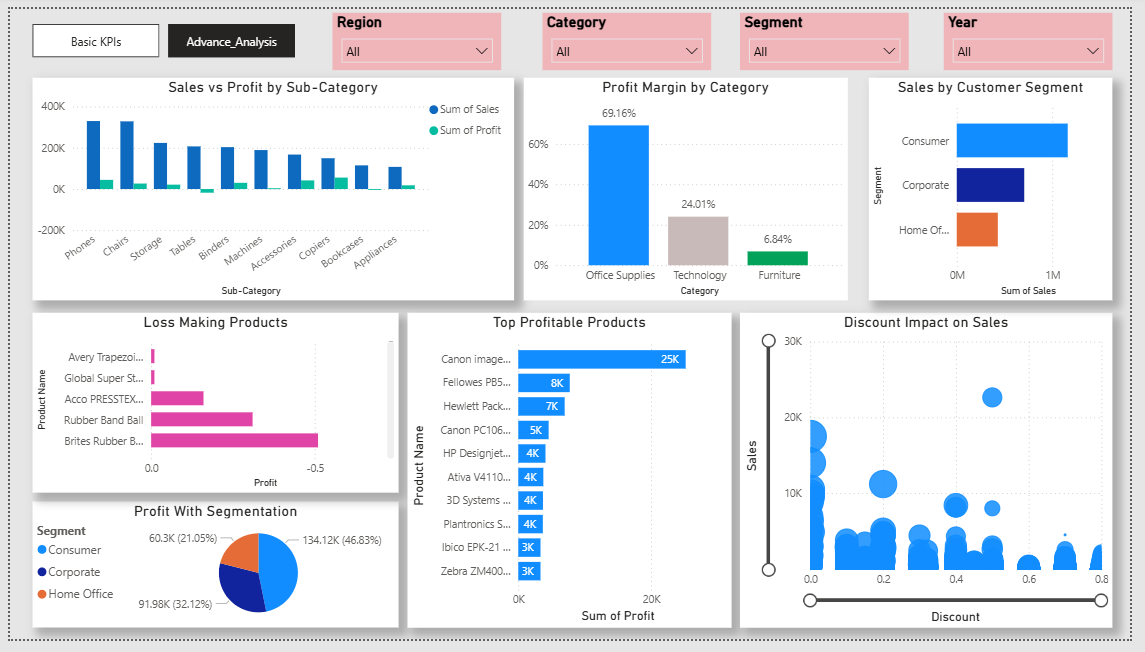

The dashboard page shown, as its layout file describes it:
{"tool":"powerbi","page":{"name":"Advance_Analysis","canvas":[1280,720],"ordinal":1},"visuals":[{"type":"clusteredColumnChart","title":"Sales vs Profit by Sub-Category","fields":{"Category":["clean_superstore_data.Sub-Category"],"Y":["Sum(clean_superstore_data.Sales)","Sum(clean_superstore_data.Profit)"]},"box":[25.7,78.6,550,254.3],"z":0},{"type":"columnChart","title":"Profit Margin  by Category","fields":{"Y":["Sum(clean_superstore_data.Profit Margin)"],"Category":["clean_superstore_data.Category"]},"box":[587.1,78.6,370,254.3],"z":1000},{"type":"pieChart","title":"Profit  With Segmentation","fields":{"Category":["clean_superstore_data.Segment"],"Y":["Sum(clean_superstore_data.Profit)"]},"box":[25.7,562.9,418.6,144.3],"z":2000},{"type":"clusteredBarChart","title":"Loss Making Products","fields":{"Category":["clean_superstore_data.Product Name"],"Y":["Sum(clean_superstore_data.Profit)"]},"box":[25.7,347.1,418.6,205.7],"z":3000},{"type":"clusteredBarChart","title":"Top Profitable Products","fields":{"Category":["clean_superstore_data.Product Name"],"Y":["Sum(clean_superstore_data.Profit)"]},"box":[454.3,347.1,370,360],"z":4000},{"type":"scatterChart","title":"Discount Impact on Sales","fields":{"X":["clean_superstore_data.Discount"],"Y":["clean_superstore_data.Sales"],"Size":["select","Sum(clean_superstore_data.Profit)"]},"box":[834.3,347.1,425.7,360],"z":5000},{"type":"barChart","title":"Sales by Customer Segment","fields":{"Category":["clean_superstore_data.Segment"],"Y":["Sum(clean_superstore_data.Sales)"],"Series":["clean_superstore_data.Segment"]},"box":[981.4,78.6,278.6,254.3],"z":5001},{"type":"pageNavigator","box":[25.7,17.1,301.4,38.6],"z":5002},{"type":"slicer","title":"Region","fields":{"Values":["clean_superstore_data.Region"]},"box":[368.6,4.3,192.9,65.7],"z":5003},{"type":"slicer","title":"Category","fields":{"Values":["clean_superstore_data.Category"]},"box":[608.6,4.3,192.9,65.7],"z":5004},{"type":"slicer","title":"Segment","fields":{"Values":["clean_superstore_data.Segment"]},"box":[834.3,4.3,192.9,65.7],"z":5005},{"type":"slicer","title":"Year","fields":{"Values":["clean_superstore_data.Order Year"]},"box":[1067.1,4.3,192.9,65.7],"z":5006}]}

Visuals, with their boxes in screenshot pixels (x1, y1, x2, y2), scaled from the page's 1280x720 canvas onto the 1145x652 screenshot:
"Sales vs Profit by Sub-Category" clusteredColumnChart: Rect(23, 71, 515, 301)
"Profit Margin  by Category" columnChart: Rect(525, 71, 856, 301)
"Profit  With Segmentation" pieChart: Rect(23, 510, 397, 640)
"Loss Making Products" clusteredBarChart: Rect(23, 314, 397, 501)
"Top Profitable Products" clusteredBarChart: Rect(406, 314, 737, 640)
"Discount Impact on Sales" scatterChart: Rect(746, 314, 1127, 640)
"Sales by Customer Segment" barChart: Rect(878, 71, 1127, 301)
pageNavigator: Rect(23, 15, 293, 50)
"Region" slicer: Rect(330, 4, 502, 63)
"Category" slicer: Rect(544, 4, 717, 63)
"Segment" slicer: Rect(746, 4, 919, 63)
"Year" slicer: Rect(955, 4, 1127, 63)
